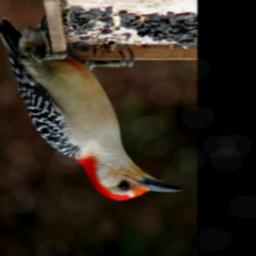Woodpecker: (0, 13, 184, 201)
